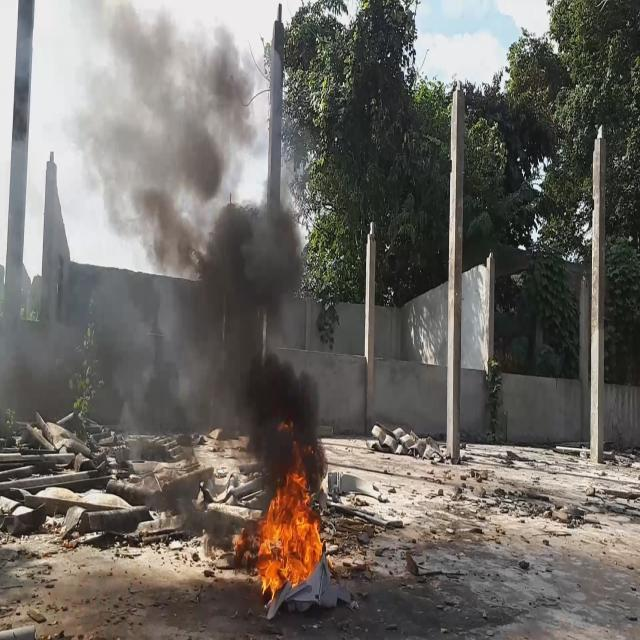Fire: (252, 444, 326, 606)
Smoke: (86, 0, 330, 515)
